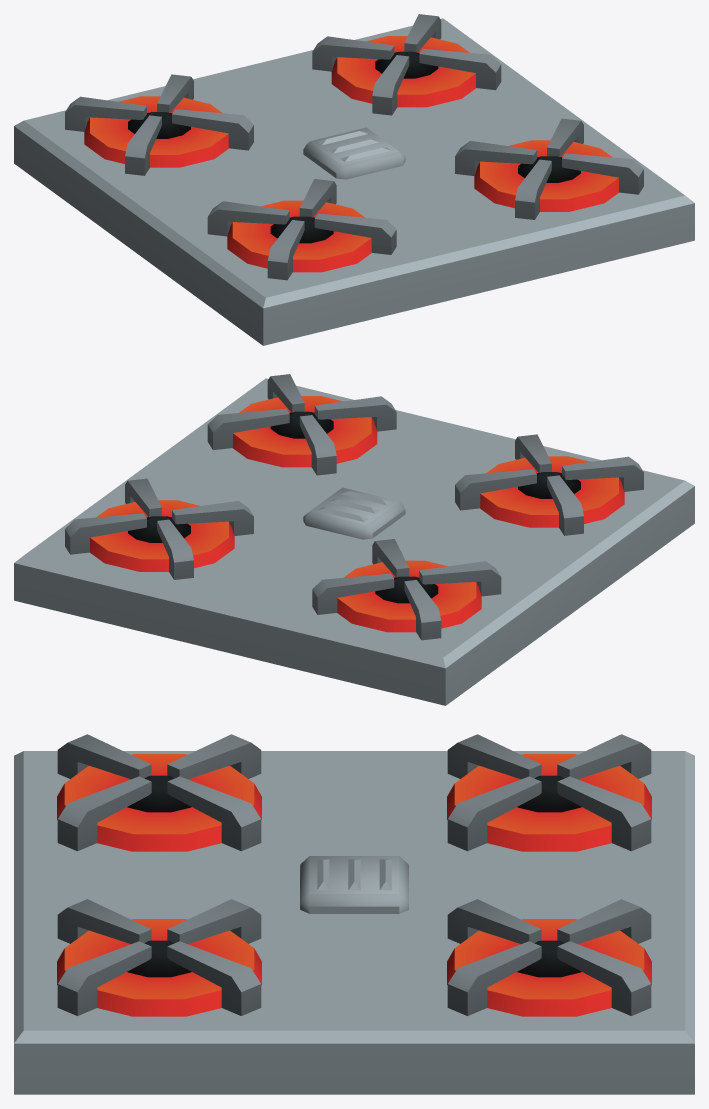
Rendered from kay-stove_multi_countertop.glb.
The picture shows the model from 3 angles, top to bottom: view 1: azimuth 30°, elevation 25°; view 2: azimuth 150°, elevation 25°; view 3: azimuth 270°, elevation 25°; orthographic projection. The views are drawn at different scales.
Visible parts, largest first — view 1: stove_multi_countertop; view 2: stove_multi_countertop; view 3: stove_multi_countertop.
Part boxes in pixels (x1,y1,x2,y2): stove_multi_countertop: [14, 14, 694, 345]; stove_multi_countertop: [14, 374, 694, 705]; stove_multi_countertop: [14, 734, 694, 1094].
Size of the model in its own units: 0.4 by 0.0619 by 0.4.
Materials: 1 (1 with a texture image).
